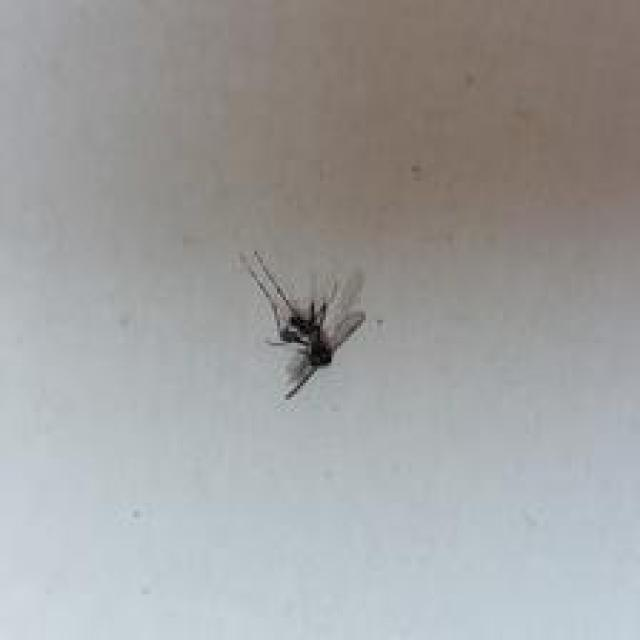Aedes albopictus: (240, 249, 369, 400)
